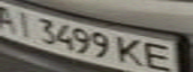3: (30, 16, 60, 46)
4: (51, 21, 75, 52)
9: (90, 29, 115, 61), (69, 25, 93, 56)
A: (0, 2, 21, 34)
E: (139, 39, 181, 72)
I: (9, 8, 36, 39)
K: (115, 35, 148, 69)
